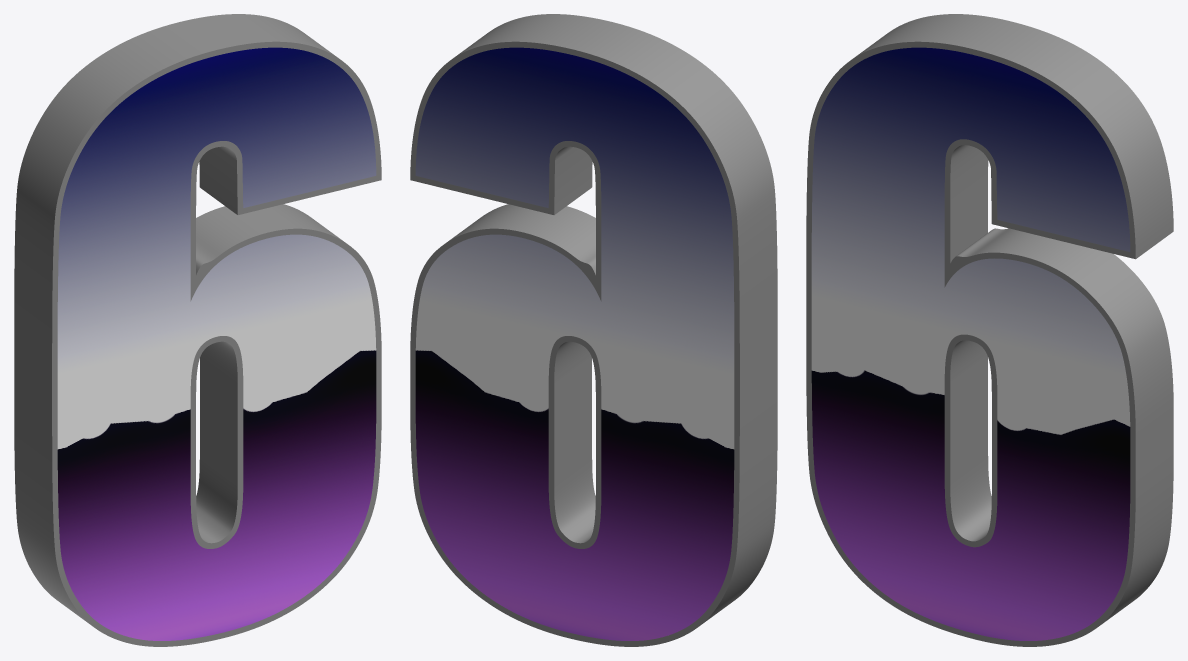
3 renders of one model, left to right at view 1: azimuth 30°, elevation 25°; view 2: azimuth 150°, elevation 25°; view 3: azimuth 330°, elevation 25°, orthographic.
Visible parts, largest first — view 1: 6, 6_outline; view 2: 6, 6_outline; view 3: 6, 6_outline.
Boxes of the visible parts, box(x1,y1,x2,y2) form: 6: box(57, 47, 376, 640); 6_outline: box(14, 14, 381, 646); 6: box(415, 47, 734, 640); 6_outline: box(410, 14, 777, 646); 6: box(811, 47, 1130, 640); 6_outline: box(806, 14, 1173, 646).
Size of the model in its own units: 60.2 by 103 by 12.
2 materials, 1 textured.
